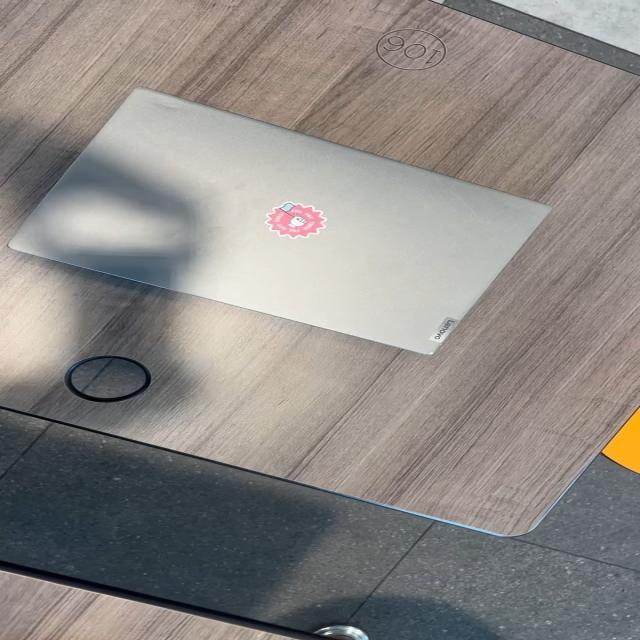laptop: (6, 85, 552, 356)
